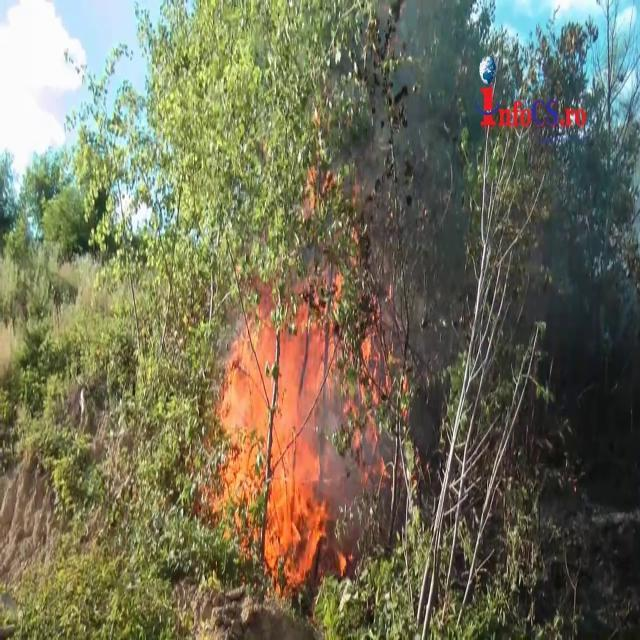Fire: (210, 290, 348, 593)
